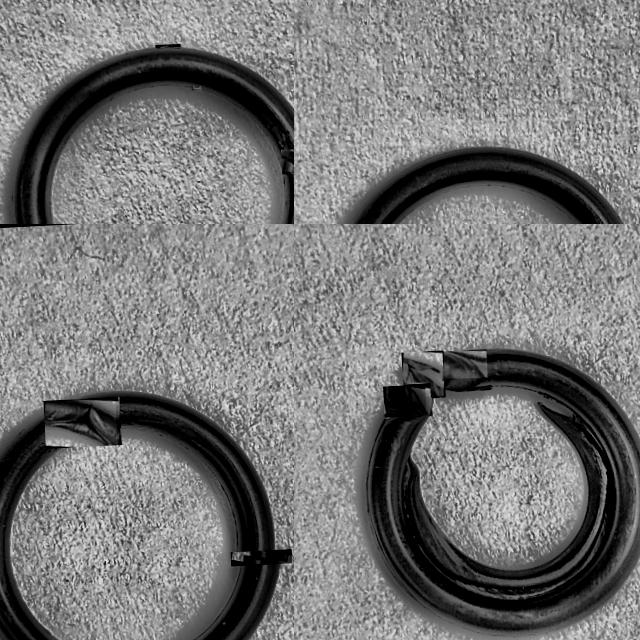侧边压痕: (165, 44, 179, 48)
切割缺陷: (46, 400, 118, 446), (385, 385, 427, 416), (444, 351, 487, 377), (283, 150, 294, 167)
挤压缺陷: (403, 353, 445, 397), (231, 551, 292, 565)
裂纹: (404, 401, 617, 600), (468, 386, 490, 391), (193, 86, 201, 89)
